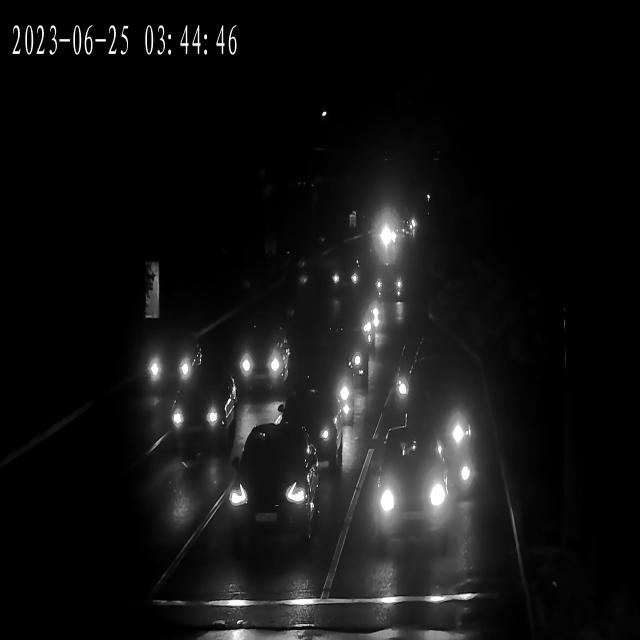Car: (221, 432, 323, 544), (397, 374, 475, 483), (272, 394, 344, 484), (372, 456, 452, 532), (162, 374, 238, 451), (326, 313, 374, 398), (232, 325, 293, 390), (142, 334, 207, 391), (308, 356, 356, 429), (339, 283, 380, 348), (369, 248, 403, 291), (329, 248, 359, 291), (370, 268, 403, 302), (372, 221, 396, 247)
